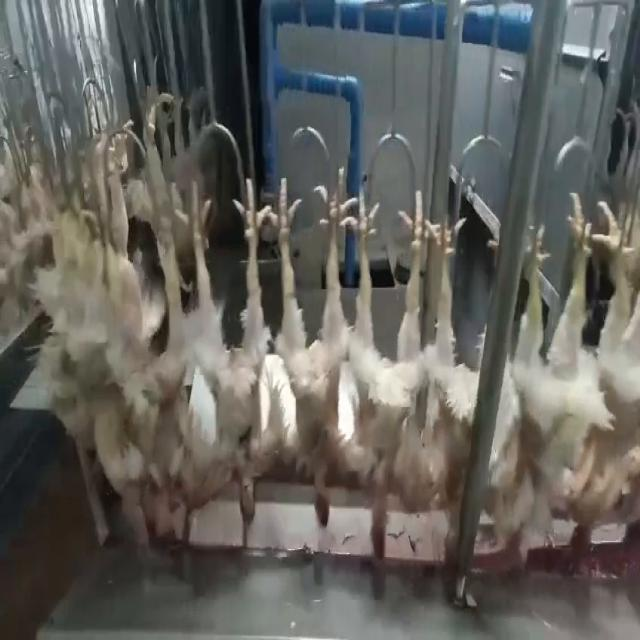chicken: (174, 160, 278, 527), (500, 188, 595, 578), (354, 182, 440, 563), (274, 160, 358, 537), (570, 192, 639, 564), (424, 210, 479, 502)
